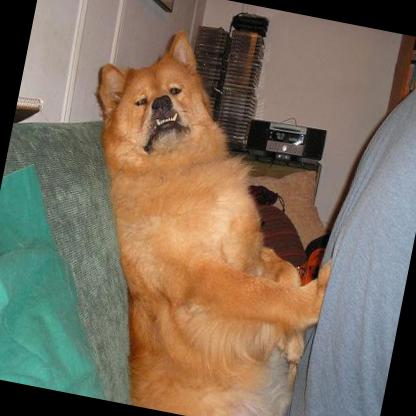chow: (34, 13, 374, 416)
